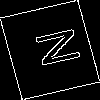N: (24, 25, 82, 72)
